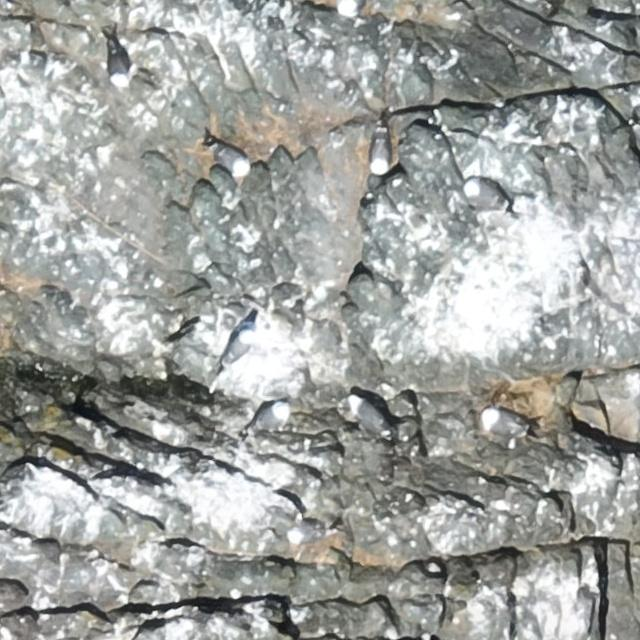umineko: (346, 395, 390, 436), (218, 327, 254, 372), (248, 404, 289, 435), (286, 521, 335, 546), (106, 42, 130, 88), (214, 146, 250, 174), (466, 183, 502, 206), (371, 136, 390, 172), (484, 411, 516, 432)
